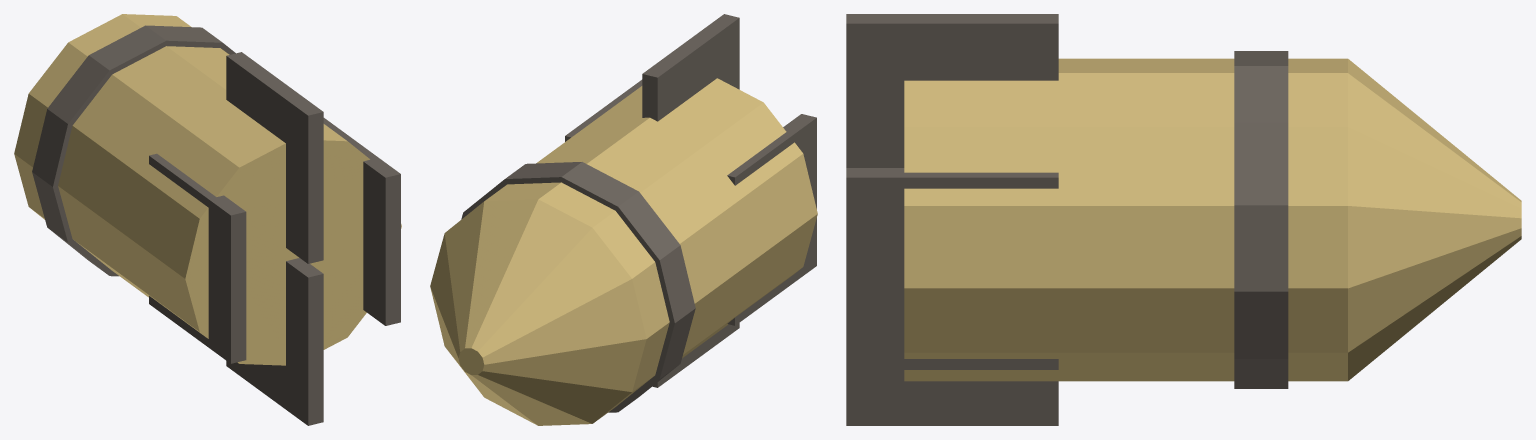
File: item-bomb.glb
3 renders of one model, left to right at view 1: azimuth 30°, elevation 25°; view 2: azimuth 150°, elevation 25°; view 3: azimuth 270°, elevation 25°, orthographic. The views are drawn at different scales.
Visible parts, largest first — view 1: item-bomb; view 2: item-bomb; view 3: item-bomb.
Part boxes in pixels (left/top/right/bottom): item-bomb: left=14, top=14, right=401, bottom=425; item-bomb: left=430, top=14, right=817, bottom=425; item-bomb: left=846, top=14, right=1521, bottom=425.
Size of the model in its own units: 0.88 by 1.15 by 1.75.
